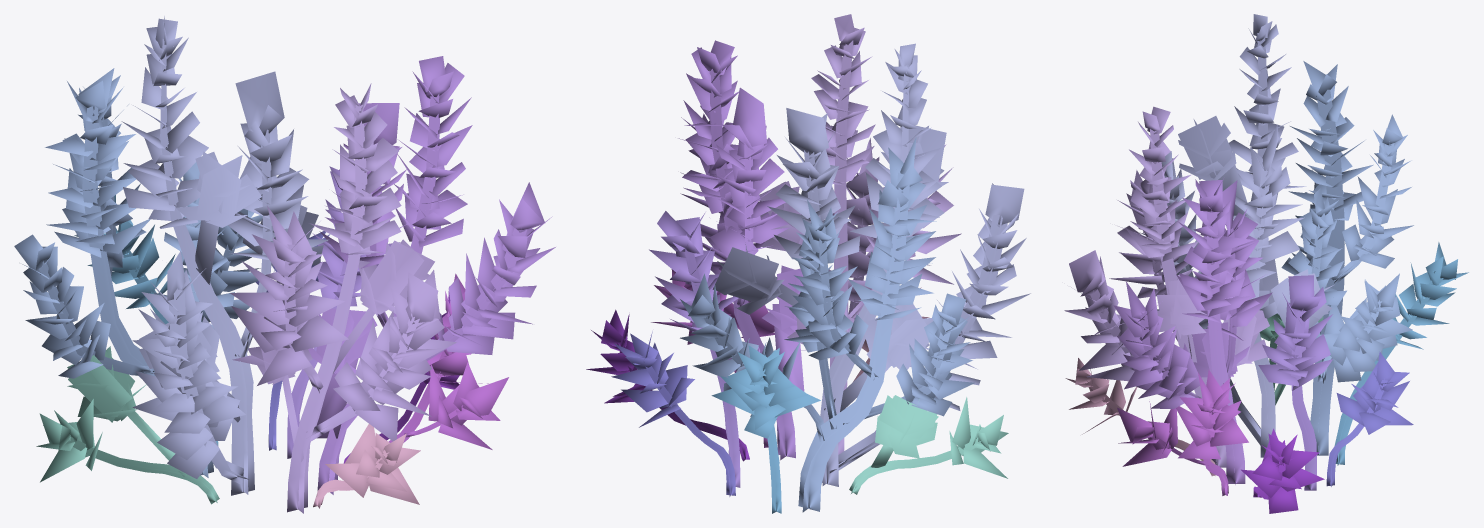
3 views of the same model, side by side, from view 1: azimuth 30°, elevation 25°; view 2: azimuth 150°, elevation 25°; view 3: azimuth 270°, elevation 25° (orthographic). The views are drawn at different scales.
Visible parts, largest first — view 1: SM_BS_Milkweed_180cm_HD; view 2: SM_BS_Milkweed_180cm_HD; view 3: SM_BS_Milkweed_180cm_HD.
Boxes of the visible parts, x1,y1,x2,y2 form: SM_BS_Milkweed_180cm_HD: [14, 16, 555, 513]; SM_BS_Milkweed_180cm_HD: [586, 14, 1030, 513]; SM_BS_Milkweed_180cm_HD: [1064, 14, 1468, 513].
Size of the model in its own units: 65.12 by 68.08 by 72.44.
